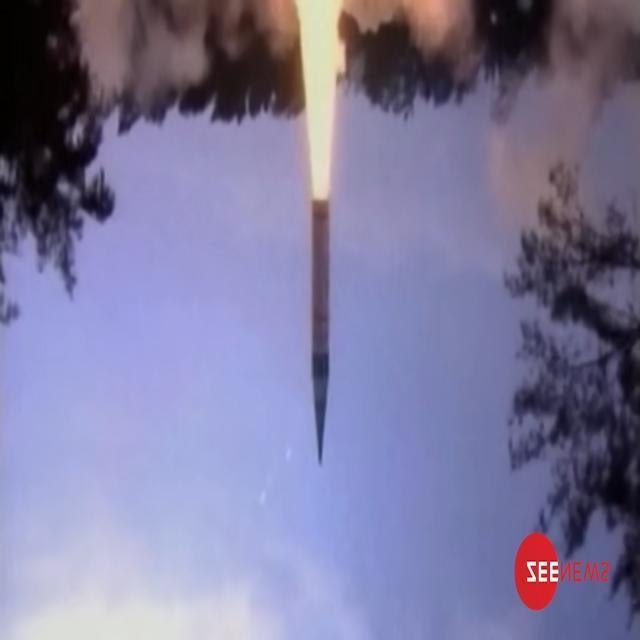Missile: (306, 190, 336, 487)
